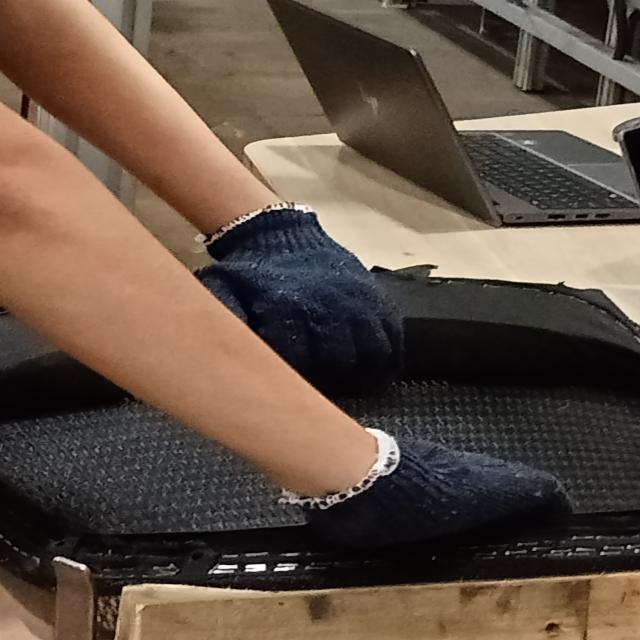Gloves-Detection: (299, 430, 575, 542), (209, 225, 395, 365)
